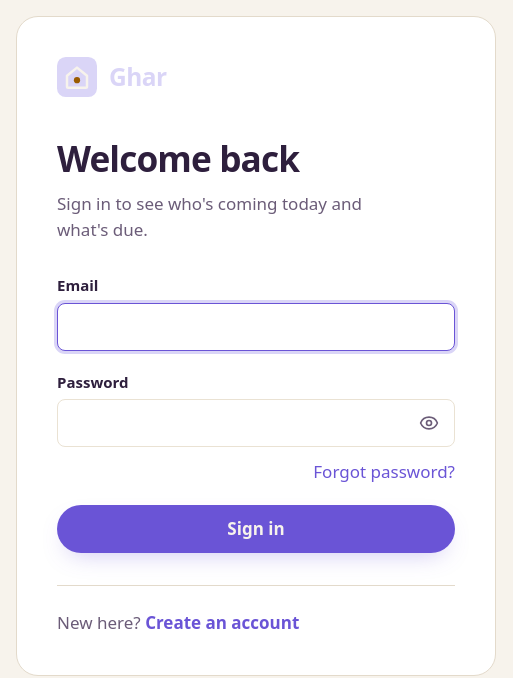
Test: SignInPage › shows the server's friendly message on wrong credentials and sends the CSRF header
Type "parakh@example.com" into the field labelled "Email" at (256, 327), box [57,303,455,351]
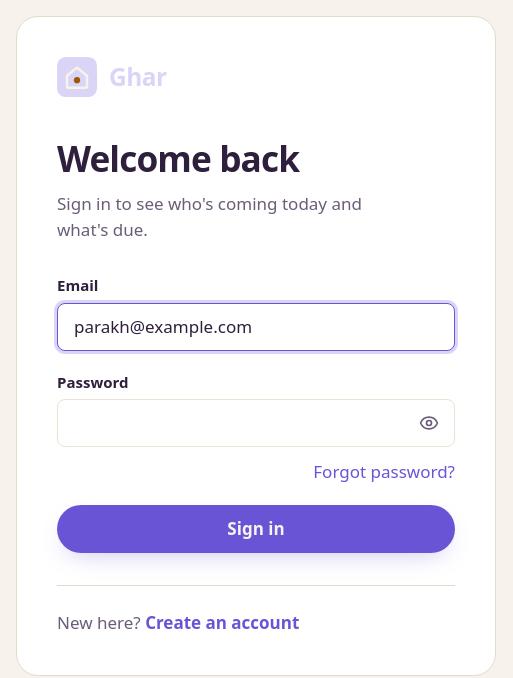
Type "wrong-password" into the password field labelled "Password" at (256, 423), box [57,399,455,447]
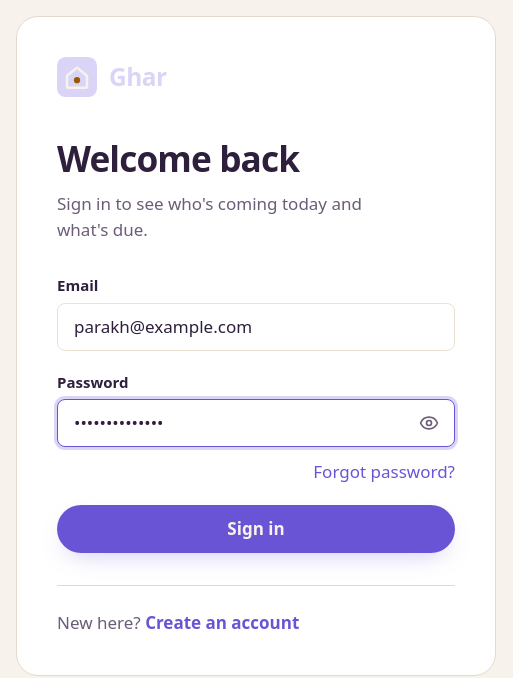
Click the button "Sign in" at (256, 529), box [57,505,455,553]
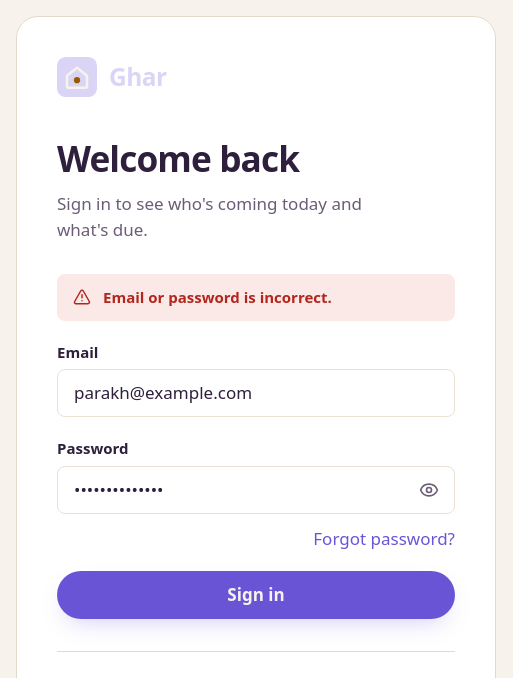
Expected: the message reads "Email or password is incorrect.", [103,287,332,307]
